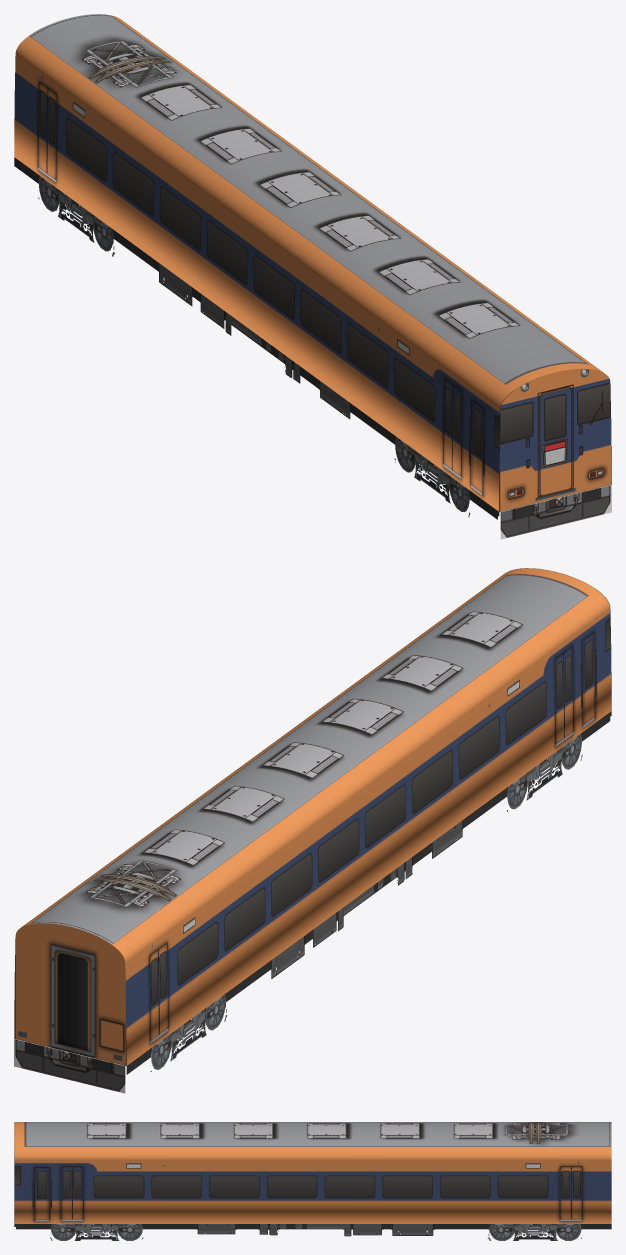
The model's file is car1.glb.
The picture shows the model from 3 angles, top to bottom: view 1: azimuth 30°, elevation 25°; view 2: azimuth 150°, elevation 25°; view 3: azimuth 270°, elevation 25°; orthographic projection. The views are drawn at different scales.
Parts seen in each view (by area): view 1: car1; view 2: car1; view 3: car1.
Part boxes in pixels (<box>): car1: <box>14,14,611,539</box>; car1: <box>14,568,611,1093</box>; car1: <box>14,1122,611,1240</box>.
Bounding box in the file's own units: 2.74 × 3.57 × 20.53.
Materials: 8 (7 with a texture image).
